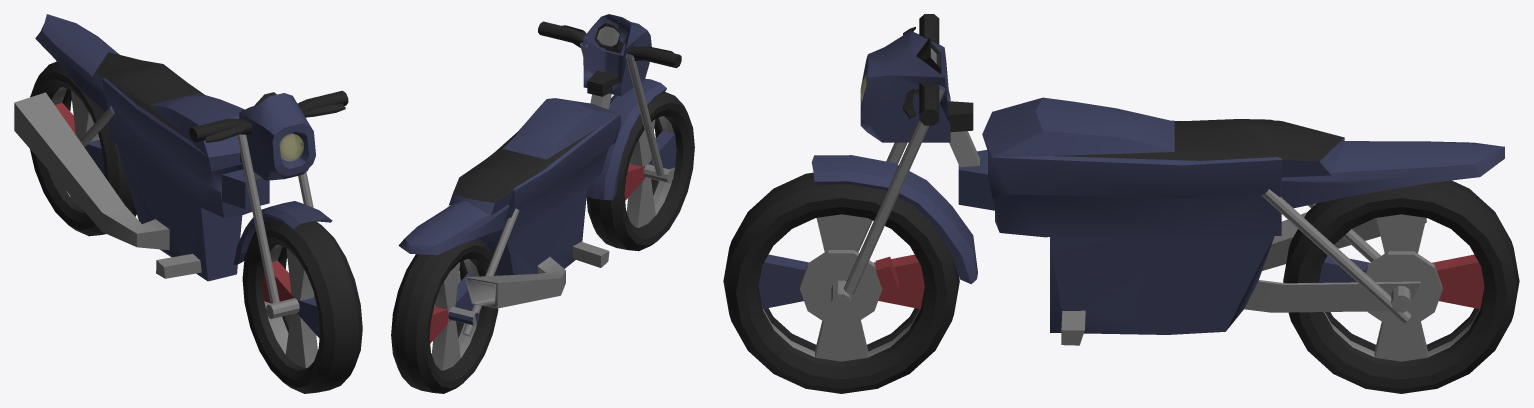
File: Cap_America_Bike.fbx
3 renders of one model, left to right at view 1: azimuth 30°, elevation 25°; view 2: azimuth 150°, elevation 25°; view 3: azimuth 270°, elevation 25°, orthographic. The views are drawn at different scales.
Visible parts, largest first — view 1: Moto_Body, F_Tire, manubrio, B_Tire, Headlight; view 2: Moto_Body, B_Tire, F_Tire, manubrio; view 3: Moto_Body, F_Tire, B_Tire, manubrio.
Boxes of the visible parts, <box> form: Moto_Body: <box>14,14,269,281</box>; F_Tire: <box>242,218,362,393</box>; manubrio: <box>189,90,348,318</box>; B_Tire: <box>30,61,136,236</box>; Headlight: <box>279,134,303,161</box>; Moto_Body: <box>398,70,620,336</box>; B_Tire: <box>391,238,498,393</box>; F_Tire: <box>586,92,694,251</box>; manubrio: <box>538,14,681,200</box>; Moto_Body: <box>947,97,1504,345</box>; F_Tire: <box>723,172,959,393</box>; B_Tire: <box>1283,180,1519,393</box>; manubrio: <box>799,14,977,324</box>.
Size of the model in its own units: 2.47 by 4.26 by 8.7.
